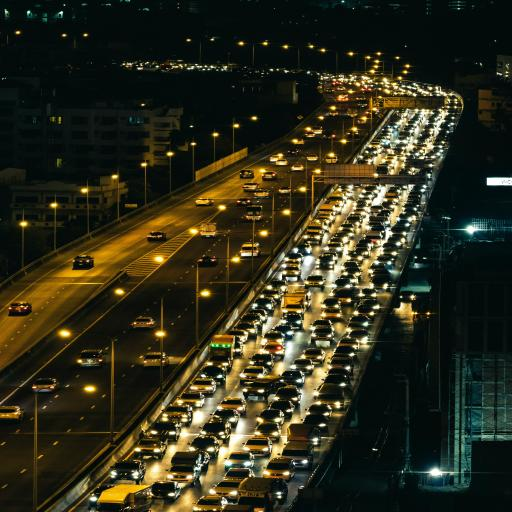car: (243, 376, 282, 399), (110, 460, 145, 484), (134, 435, 167, 459), (201, 417, 231, 443), (166, 464, 201, 486), (263, 458, 295, 481), (210, 478, 241, 501), (188, 435, 219, 458), (146, 421, 181, 441), (253, 287, 282, 311), (162, 404, 193, 425), (89, 484, 114, 509), (152, 481, 181, 502), (199, 365, 228, 385), (244, 436, 272, 455), (194, 495, 227, 511), (225, 451, 254, 469), (218, 397, 246, 415), (240, 366, 268, 384), (211, 410, 240, 427), (323, 368, 350, 386), (176, 391, 204, 408), (269, 400, 295, 418), (302, 414, 328, 432), (275, 385, 301, 403), (255, 422, 281, 440), (257, 409, 284, 426), (328, 355, 353, 373), (78, 350, 105, 366), (241, 310, 263, 329), (306, 404, 332, 420), (207, 355, 232, 371), (262, 342, 285, 359), (224, 468, 254, 481), (190, 378, 216, 393), (250, 353, 274, 369), (301, 348, 325, 364), (355, 304, 376, 322), (143, 352, 168, 367), (0, 406, 24, 421), (281, 370, 305, 385), (347, 315, 369, 331), (311, 327, 334, 342), (261, 330, 284, 345), (32, 379, 60, 391), (236, 321, 258, 336), (282, 263, 301, 280), (343, 266, 362, 283), (371, 274, 391, 290), (281, 313, 302, 328), (240, 242, 260, 257), (227, 328, 248, 342), (350, 329, 370, 343), (305, 275, 325, 289), (274, 325, 294, 339), (131, 317, 156, 328), (316, 255, 335, 269), (311, 319, 333, 331), (9, 302, 31, 314), (73, 255, 93, 268), (285, 250, 304, 263), (322, 308, 342, 320), (268, 280, 288, 292), (322, 297, 340, 310), (252, 307, 268, 321), (198, 256, 218, 267), (376, 254, 395, 265), (334, 276, 353, 287), (328, 240, 344, 252), (363, 299, 380, 310), (297, 243, 312, 254), (148, 232, 166, 241), (234, 340, 243, 356), (262, 171, 277, 180), (243, 183, 259, 191), (255, 189, 270, 197), (196, 198, 213, 205), (240, 170, 254, 178), (278, 186, 291, 194), (276, 158, 288, 165), (270, 154, 282, 161), (307, 154, 318, 161), (292, 164, 304, 170), (288, 149, 300, 155), (304, 131, 315, 137), (293, 139, 304, 144)
